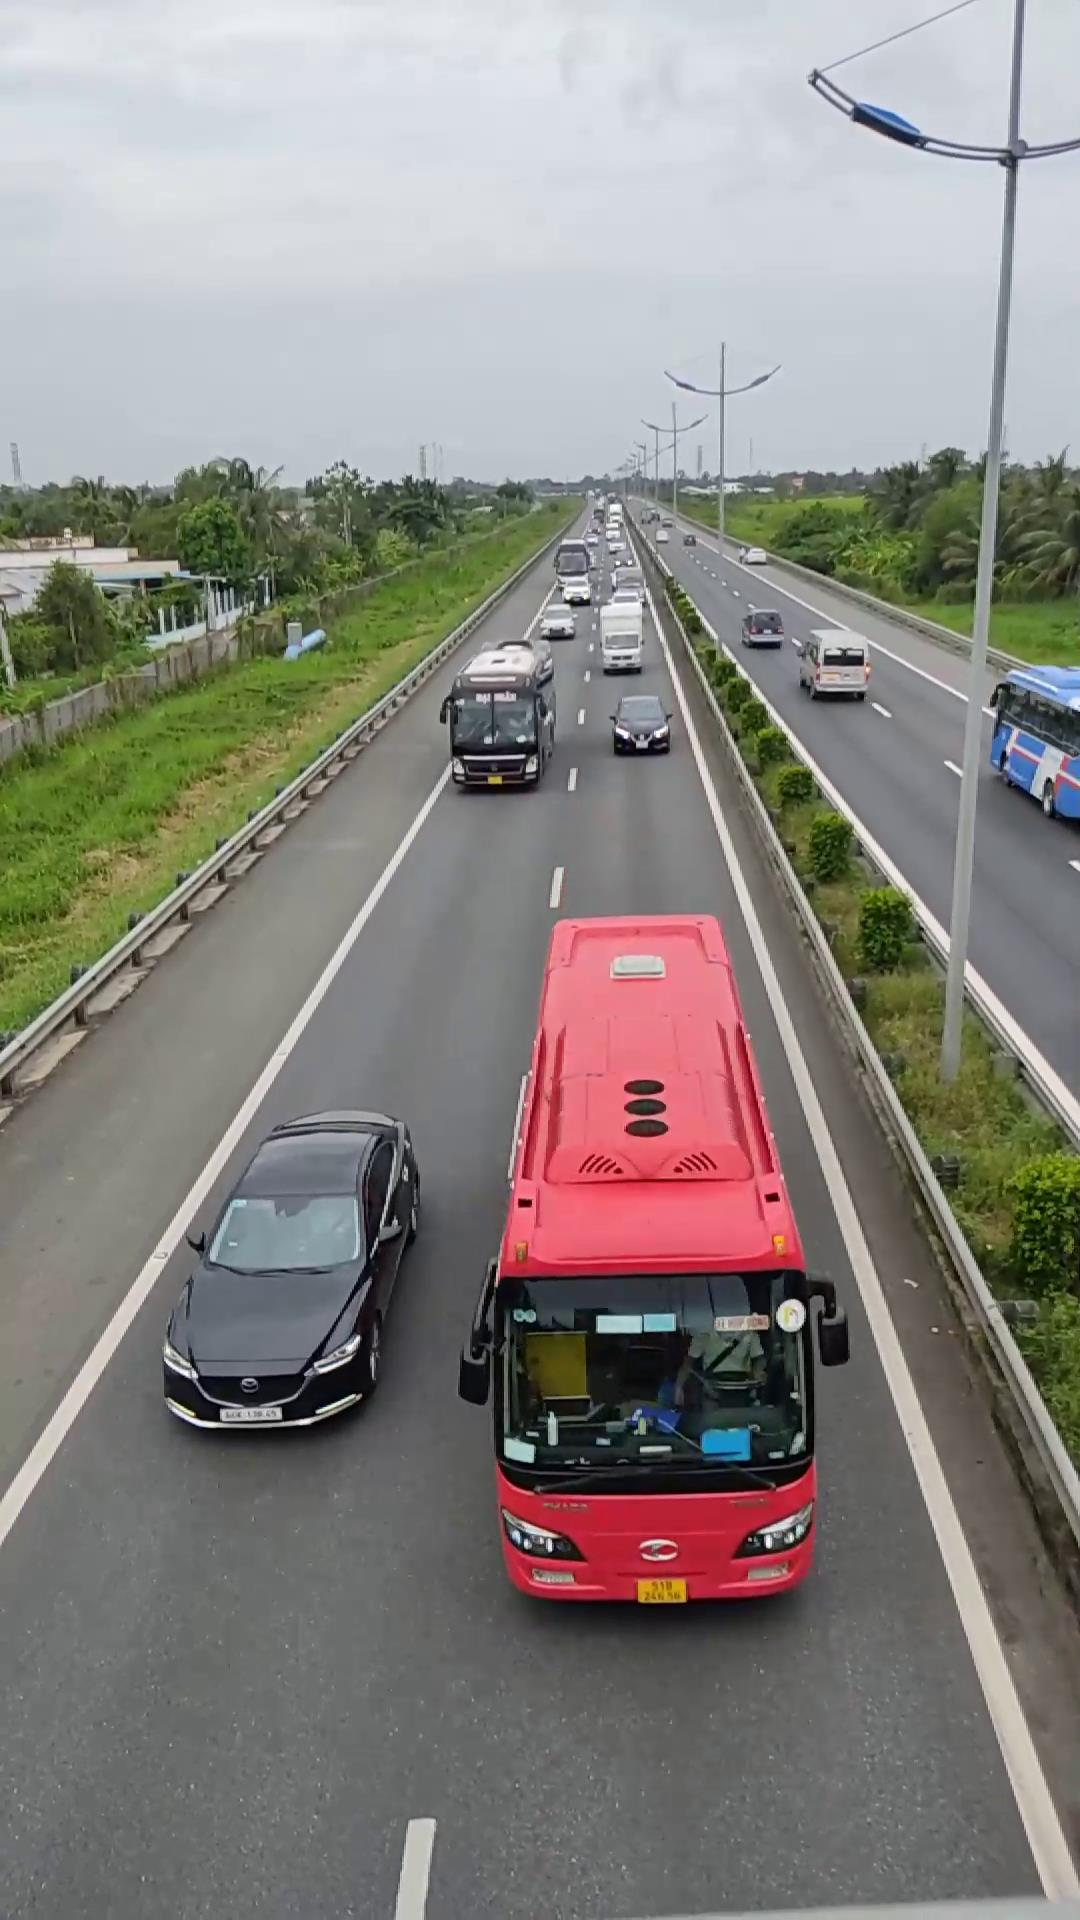bus: (464, 910, 839, 1607), (446, 641, 556, 790)
car: (160, 1108, 423, 1429), (795, 624, 872, 702)
truck: (986, 661, 1077, 819)
